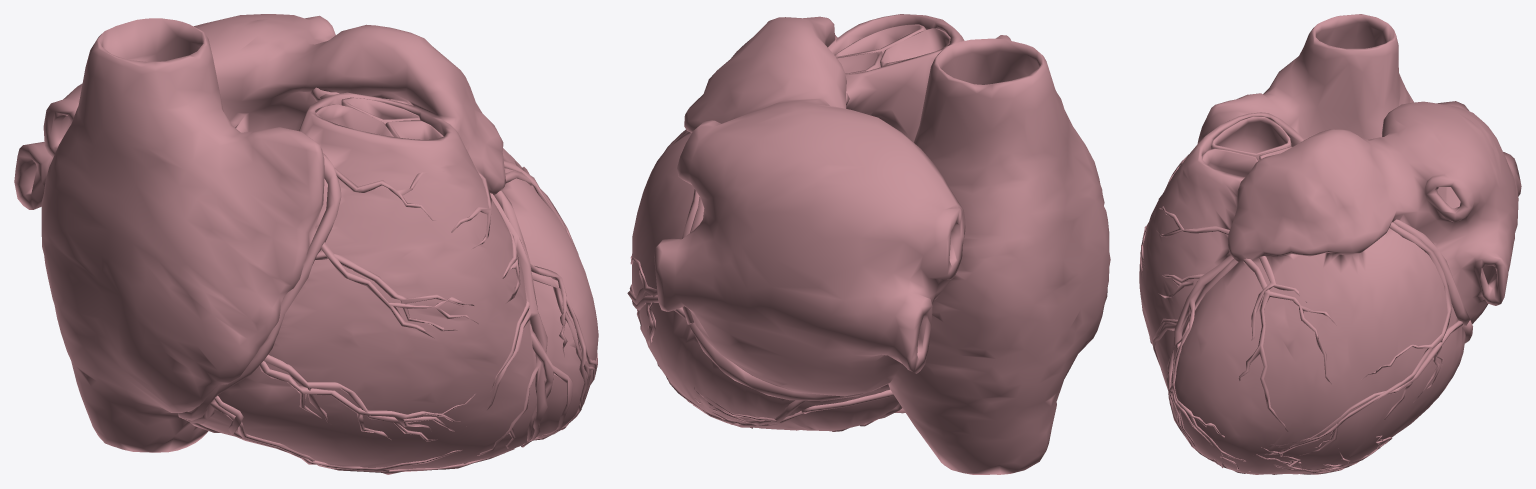
Rendered from heart.glb.
3 views of the same model, side by side, from view 1: azimuth 30°, elevation 25°; view 2: azimuth 150°, elevation 25°; view 3: azimuth 270°, elevation 25° (orthographic). The views are drawn at different scales.
Visible parts, largest first — view 1: world; view 2: world; view 3: world.
Boxes of the visible parts, bbox=[...] form: world: bbox=[14, 14, 598, 474]; world: bbox=[627, 14, 1110, 474]; world: bbox=[1139, 14, 1521, 474].
Bounding box in the file's own units: 2 × 1.82 × 1.89.
